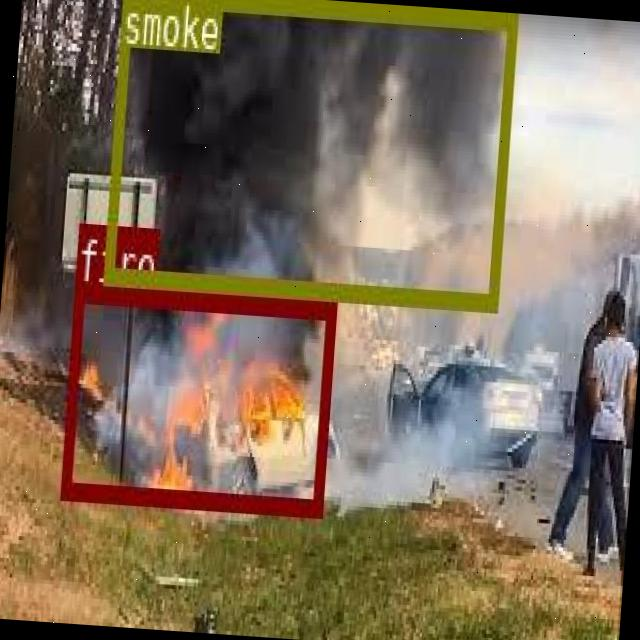fire: (58, 282, 334, 514)
smoke: (102, 0, 513, 305)
